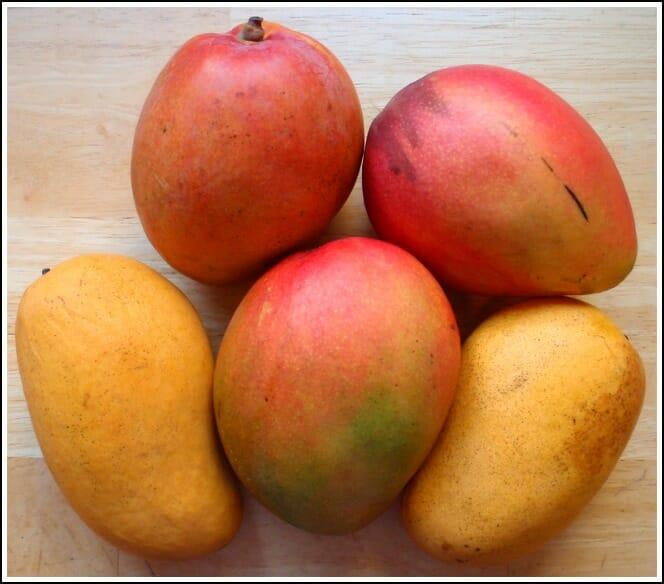mango: (210, 230, 456, 551), (15, 253, 254, 574), (364, 72, 642, 292), (120, 22, 375, 256), (429, 296, 642, 575)
